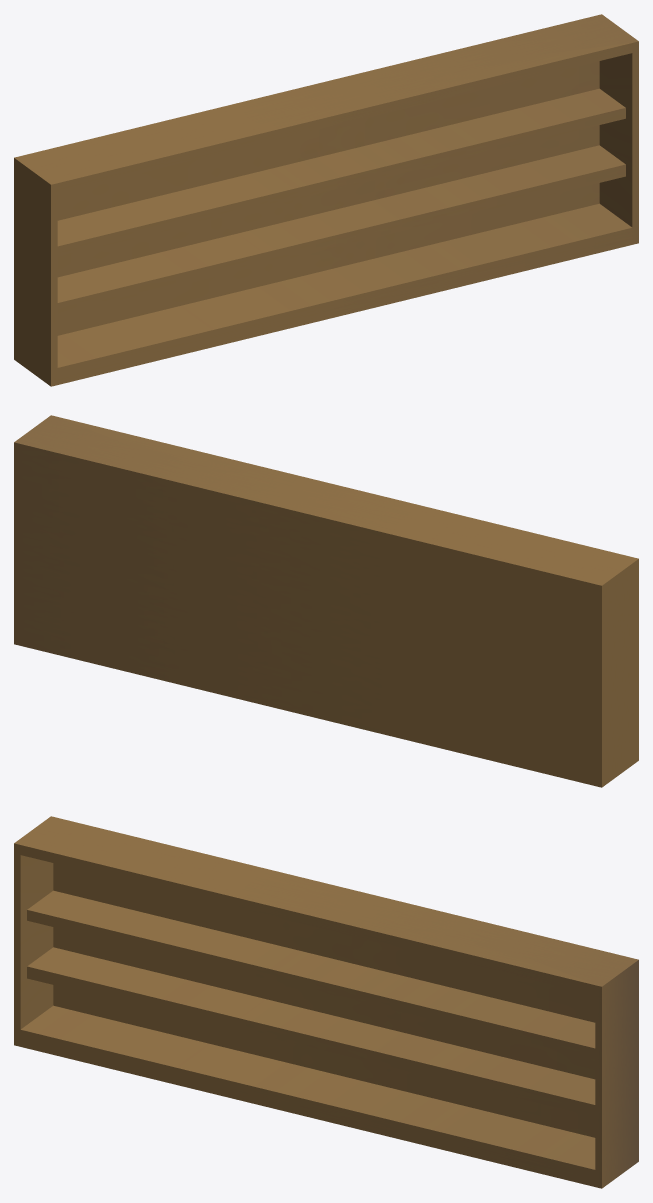
The model's file is Long Shelf.fbx.
3 renders of one model, top to bottom at view 1: azimuth 30°, elevation 25°; view 2: azimuth 150°, elevation 25°; view 3: azimuth 330°, elevation 25°, orthographic.
Parts seen in each view (by area): view 1: longshelf; view 2: longshelf; view 3: longshelf.
Boxes of the visible parts, box(x1,y1,x2,y2) form: longshelf: box(14, 14, 638, 386); longshelf: box(14, 415, 638, 787); longshelf: box(14, 816, 638, 1188).
Bounding box in the file's own units: 219 × 71.96 × 23.95.
